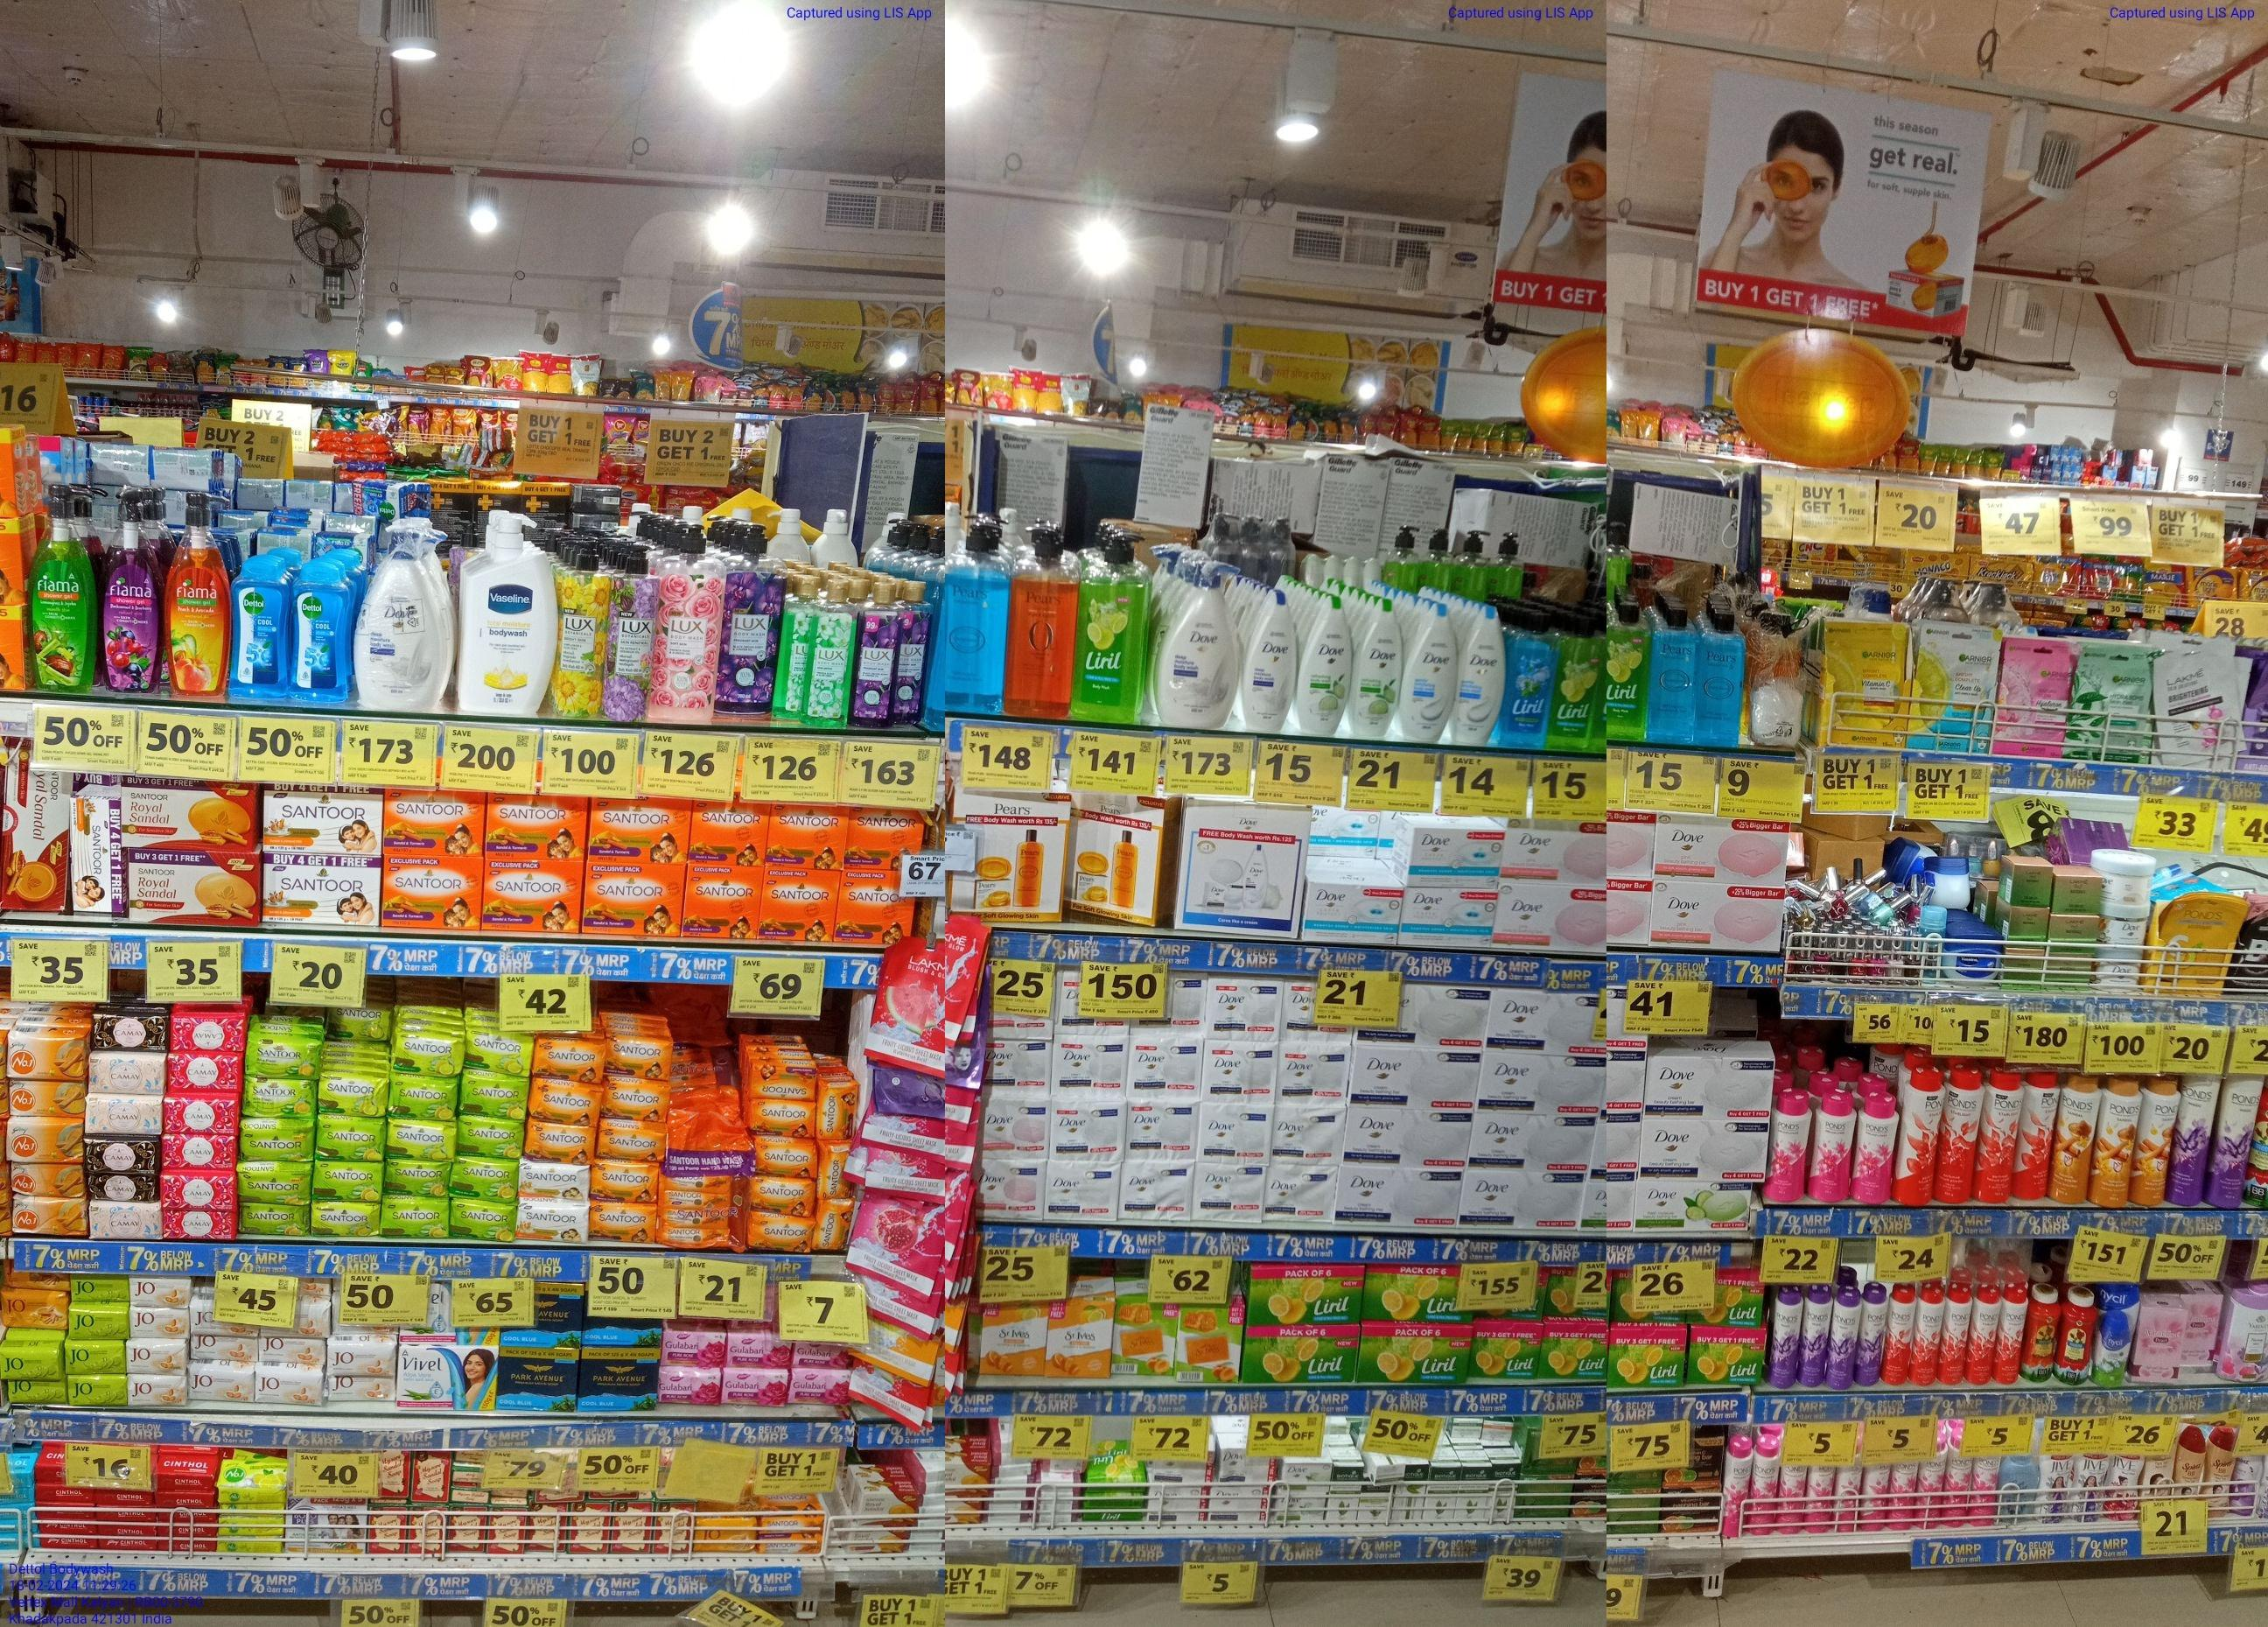Dettol_Bodywash_Cool: (229, 555, 292, 701), (294, 558, 352, 706)
Dove_Deep_Moisture_Body_Wash_250ML: (1244, 588, 1297, 733)
Dove_Gentle_Exfoliating_Body_Wash_250ML: (1402, 602, 1455, 745), (1457, 602, 1504, 748)
Dove_Refreshing_Body_Wash_250ML: (1300, 595, 1353, 736), (1353, 597, 1399, 740)
Liril_Cooling_Mint_Body_Wash_250ML: (1506, 613, 1548, 752)
Liril_Lime_and_Tea_Tree_Oil_Body_Wash_250ML: (1552, 613, 1601, 754), (1603, 595, 1645, 740)
Lux_Black_Orchid_Scent_and_Juniper_Oil_Body_Wash_245ML: (853, 583, 892, 729), (896, 578, 925, 729)
Lux_Body_Wash_Skin_Detox_Freesia_Scent_and_Alove_Vera_245ML: (809, 581, 852, 725)
Pears_Pure_Glycerin_and_Mint_Extracts_Body_Wash_250ML: (1694, 609, 1742, 748), (1649, 606, 1693, 745)
